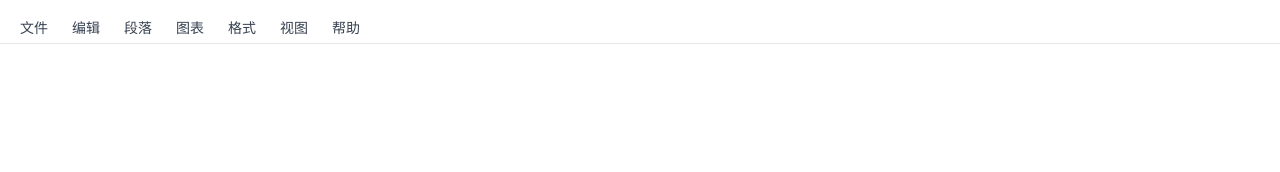
Test: MenuBar › 点击帮助菜单展开下拉
The width and height of the screenshot is (1280, 172).
Click the button "帮助".
click(346, 28)  # box top-left (320, 14), bottom-right (372, 42)
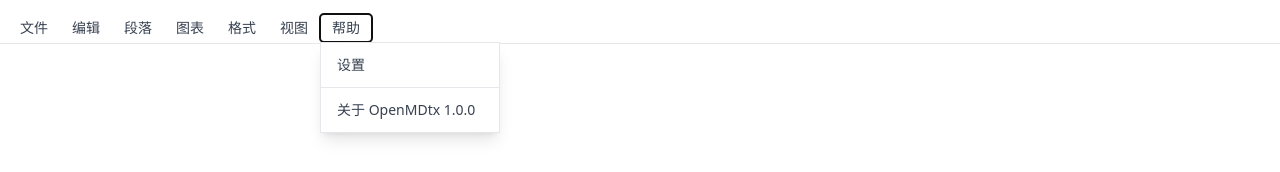
Expected: the text "设置" is shown, top-left (337, 54), bottom-right (365, 74)
